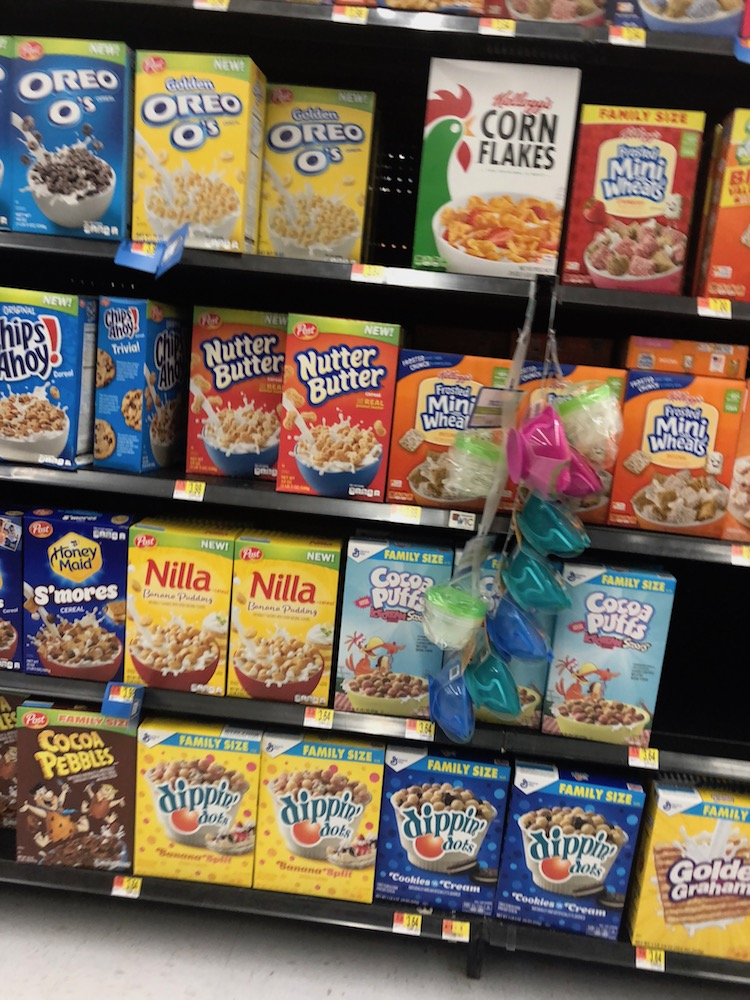Chips Ahoys-565717529: (1, 297, 75, 461)
Cocoa Pebbles-555517893: (9, 700, 139, 873)
Cocoa Puffs Ice Cream-563408546: (546, 574, 669, 736), (339, 538, 442, 717)
Dippin Dots Banana-568929376: (133, 724, 257, 885), (265, 741, 377, 898)
Dippin Dots Cookies & Cream -568929378: (508, 767, 643, 923), (388, 743, 499, 914)
Frosted Mini Original -9295869: (620, 375, 732, 526)
Honey Maid Graham -563424385: (12, 508, 127, 684)
Mini Wheats Straw-567084832: (561, 105, 694, 285)
Nilla -568301014: (230, 532, 334, 710), (131, 523, 234, 698)
Nutter Butter-565717511: (284, 323, 387, 499), (192, 312, 284, 484)
Oreo Golden-568301011: (134, 51, 257, 252), (257, 85, 362, 258)
Oreo-563424384: (9, 45, 129, 235)
